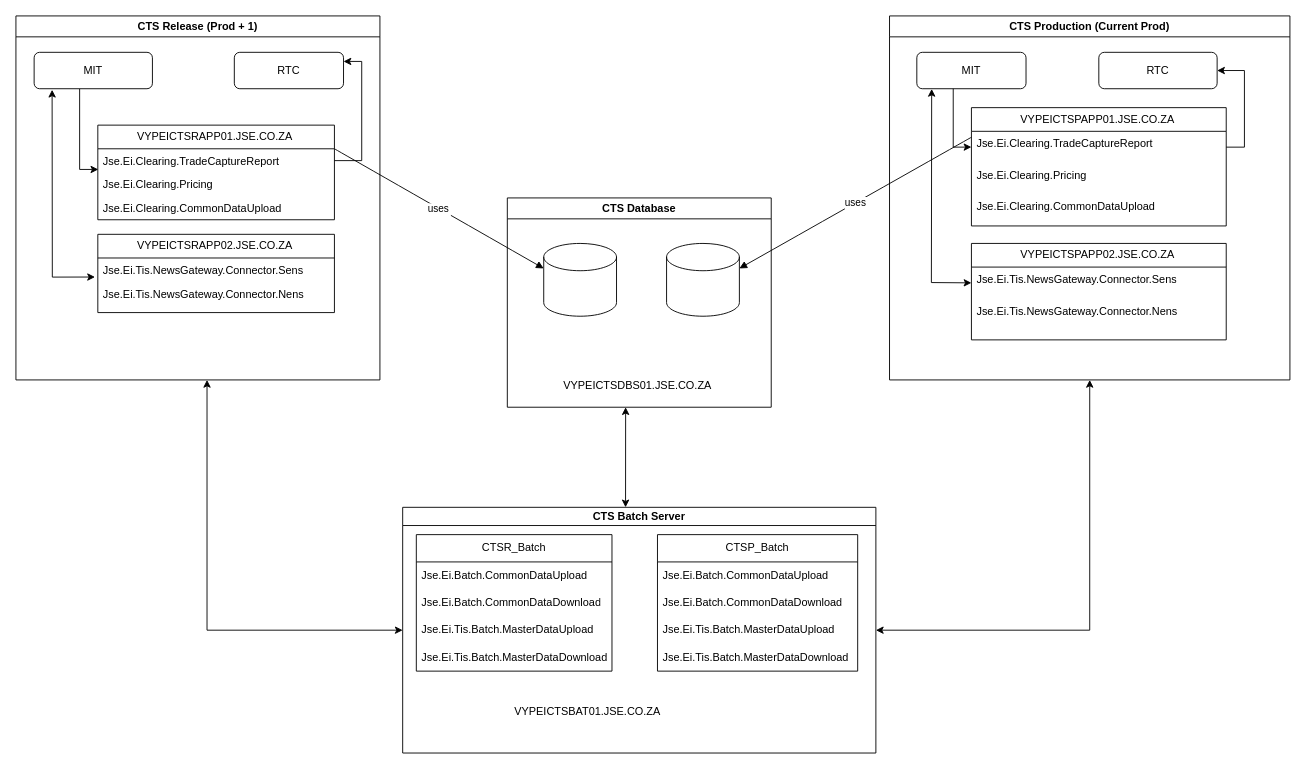
The diagram is 1306 pixels wide and 769 high, and some of its shapes have lost their labels. Each missing label, with the centre of its shape:
"CIS_Prod" goes at point 702,279.
"CIS_Release" goes at point 580,279.
